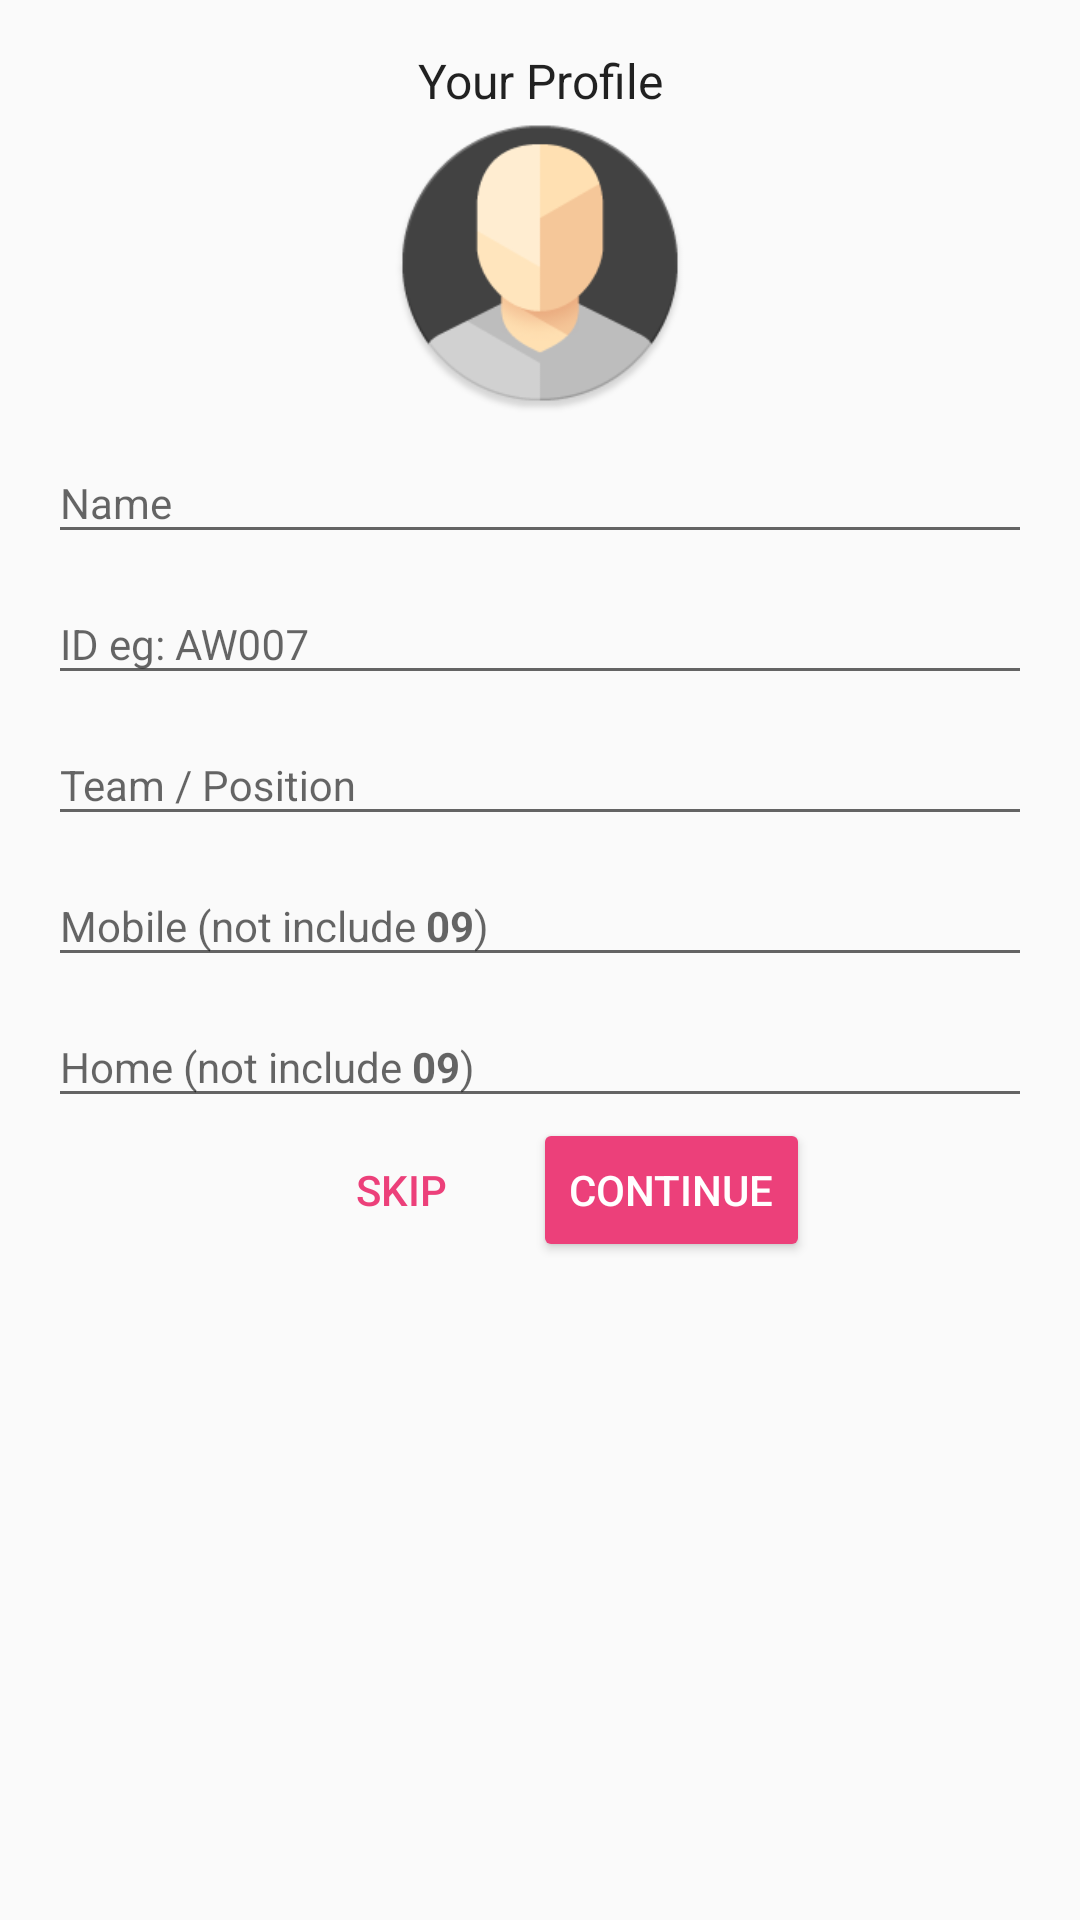

Icon bounding boxes for this 1080 × 1920 phone screenshot, format (x1, y1, x2, y2):
anonymous: (402, 125, 678, 406)
